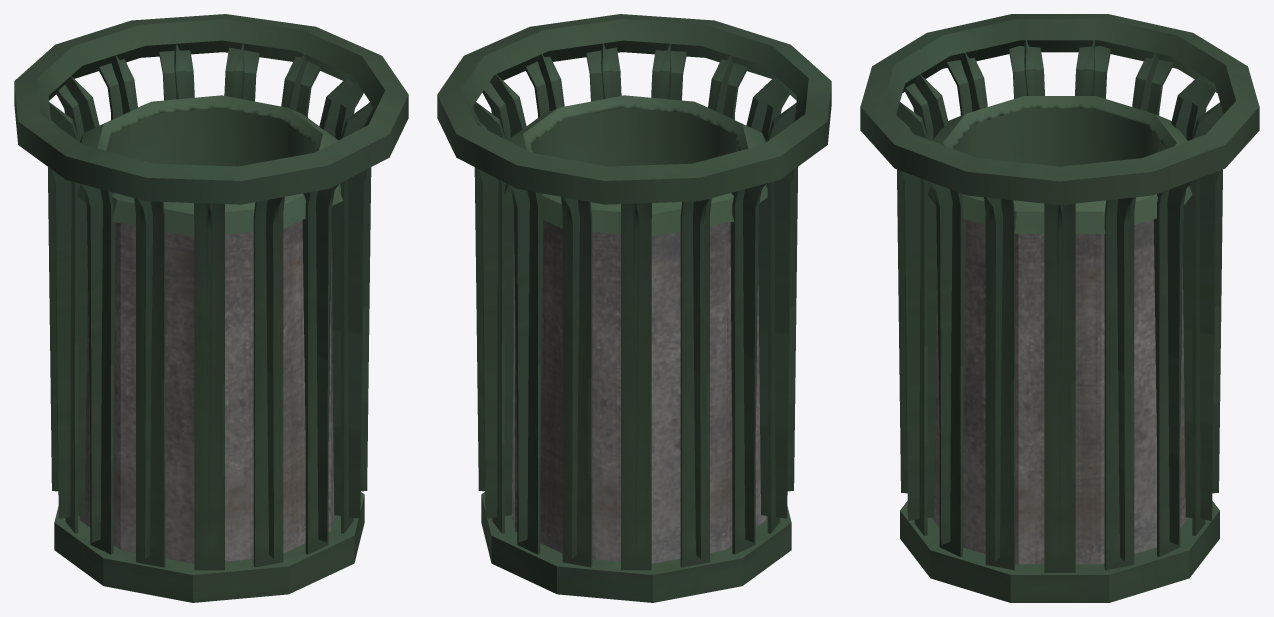
The model's file is Trashcan.fbx.
3 renders of one model, left to right at view 1: azimuth 30°, elevation 25°; view 2: azimuth 150°, elevation 25°; view 3: azimuth 270°, elevation 25°, orthographic.
Parts seen in each view (by area): view 1: St_03.160; view 2: St_03.160; view 3: St_03.160.
Part boxes in pixels (x1,y1,x2,y2): St_03.160: (14,14,408,602); St_03.160: (437,14,831,602); St_03.160: (860,14,1259,602).
Bounding box in the file's own units: 103 × 128 × 104.
